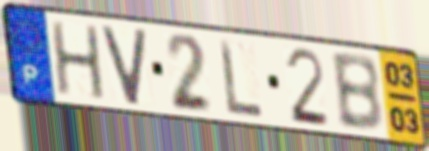2: (163, 32, 215, 115), (283, 45, 331, 129)
B: (328, 52, 386, 134)
H: (49, 20, 109, 103)
L: (216, 36, 266, 119)
V: (99, 23, 150, 108)
